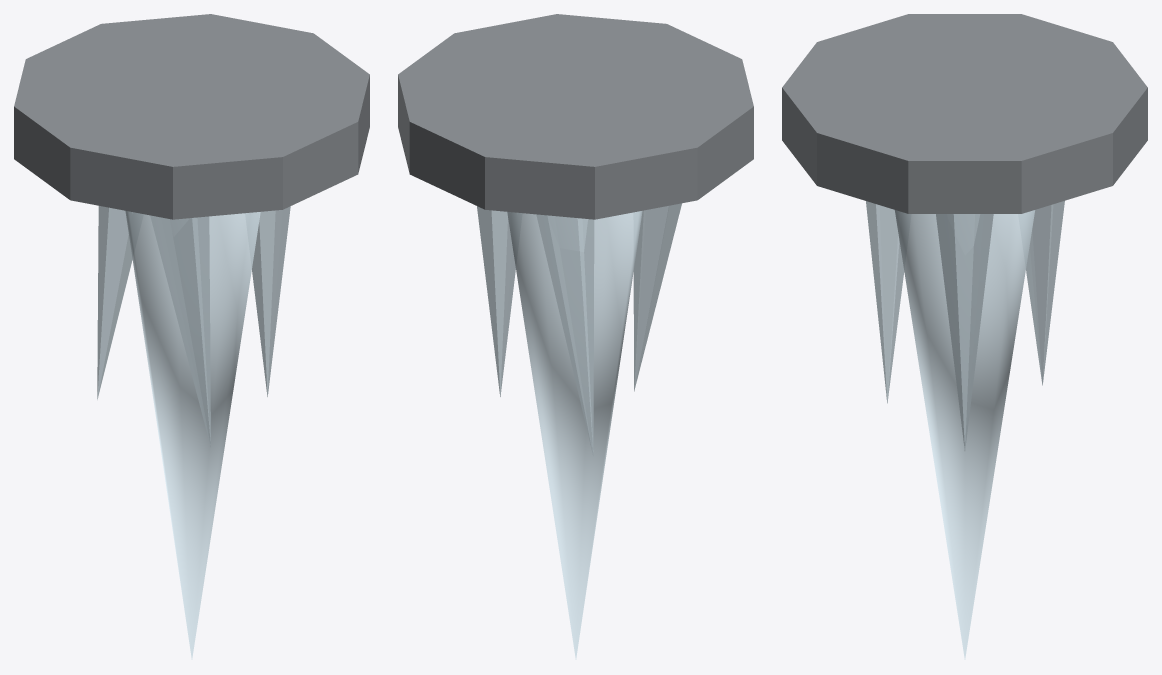
File: ice_stalactite_drip.glb
3 views of the same model, side by side, from view 1: azimuth 30°, elevation 25°; view 2: azimuth 150°, elevation 25°; view 3: azimuth 270°, elevation 25° (orthographic).
Visible parts, largest first — view 1: Cylinder, Cone, Cone.003, Cone.002, Cone.001; view 2: Cylinder, Cone, Cone.002, Cone.003, Cone.001; view 3: Cylinder, Cone, Cone.001, Cone.003, Cone.002.
Part boxes in pixels (x1,y1,x2,y2): Cylinder: [14, 14, 369, 219]; Cone: [125, 211, 260, 659]; Cone.003: [150, 215, 210, 447]; Cone.002: [97, 206, 133, 399]; Cone.001: [249, 206, 290, 396]; Cylinder: [398, 14, 753, 219]; Cone: [507, 211, 642, 659]; Cone.002: [536, 214, 594, 457]; Cone.003: [633, 203, 681, 391]; Cone.001: [477, 206, 517, 396]; Cylinder: [782, 14, 1147, 213]; Cone: [894, 210, 1035, 659]; Cone.001: [936, 214, 993, 450]; Cone.003: [866, 201, 904, 403]; Cone.002: [1026, 201, 1064, 385].
Size of the model in its own units: 0.4755 by 0.865 by 0.5.
